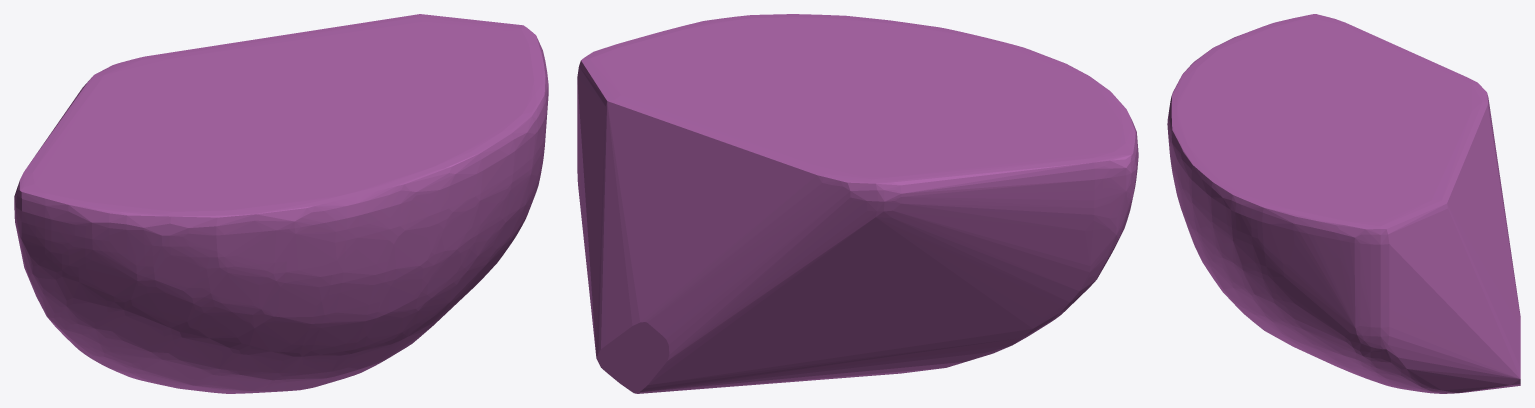
The model's file is torso_link_part_7.obj.
The picture shows the model from 3 angles, left to right: view 1: azimuth 30°, elevation 25°; view 2: azimuth 150°, elevation 25°; view 3: azimuth 270°, elevation 25°; orthographic projection. The views are drawn at different scales.
Bounding box in the file's own units: 0.1591 × 0.0758 × 0.1091.
